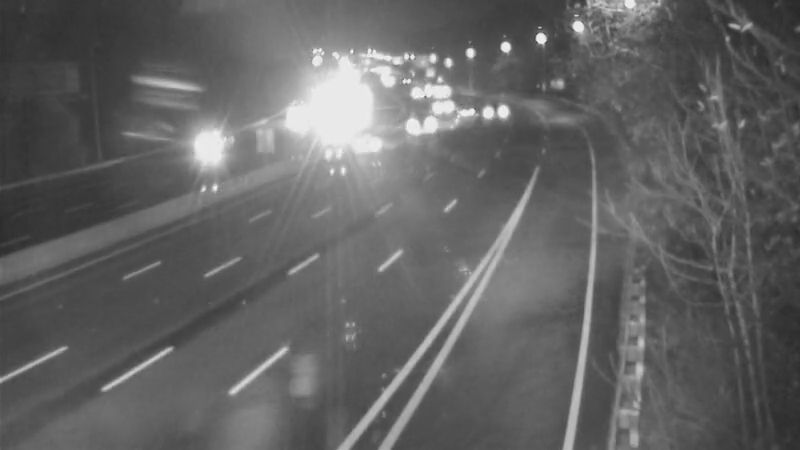vehicle: (415, 79, 465, 129), (474, 81, 524, 131), (400, 96, 450, 146), (349, 116, 399, 166), (178, 118, 228, 168)
